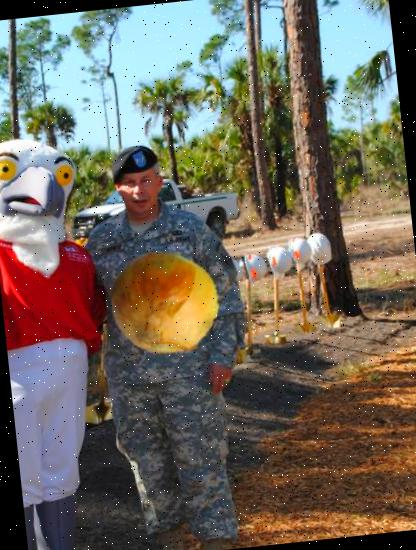Onion: (104, 243, 224, 363)
